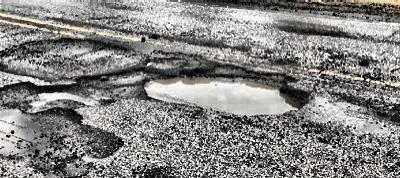pothole: (139, 60, 310, 116), (0, 78, 79, 114)
